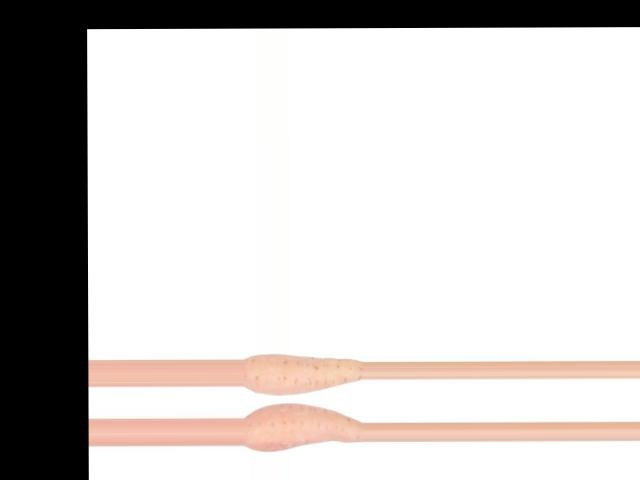sweet_potato: (243, 355, 359, 396)
